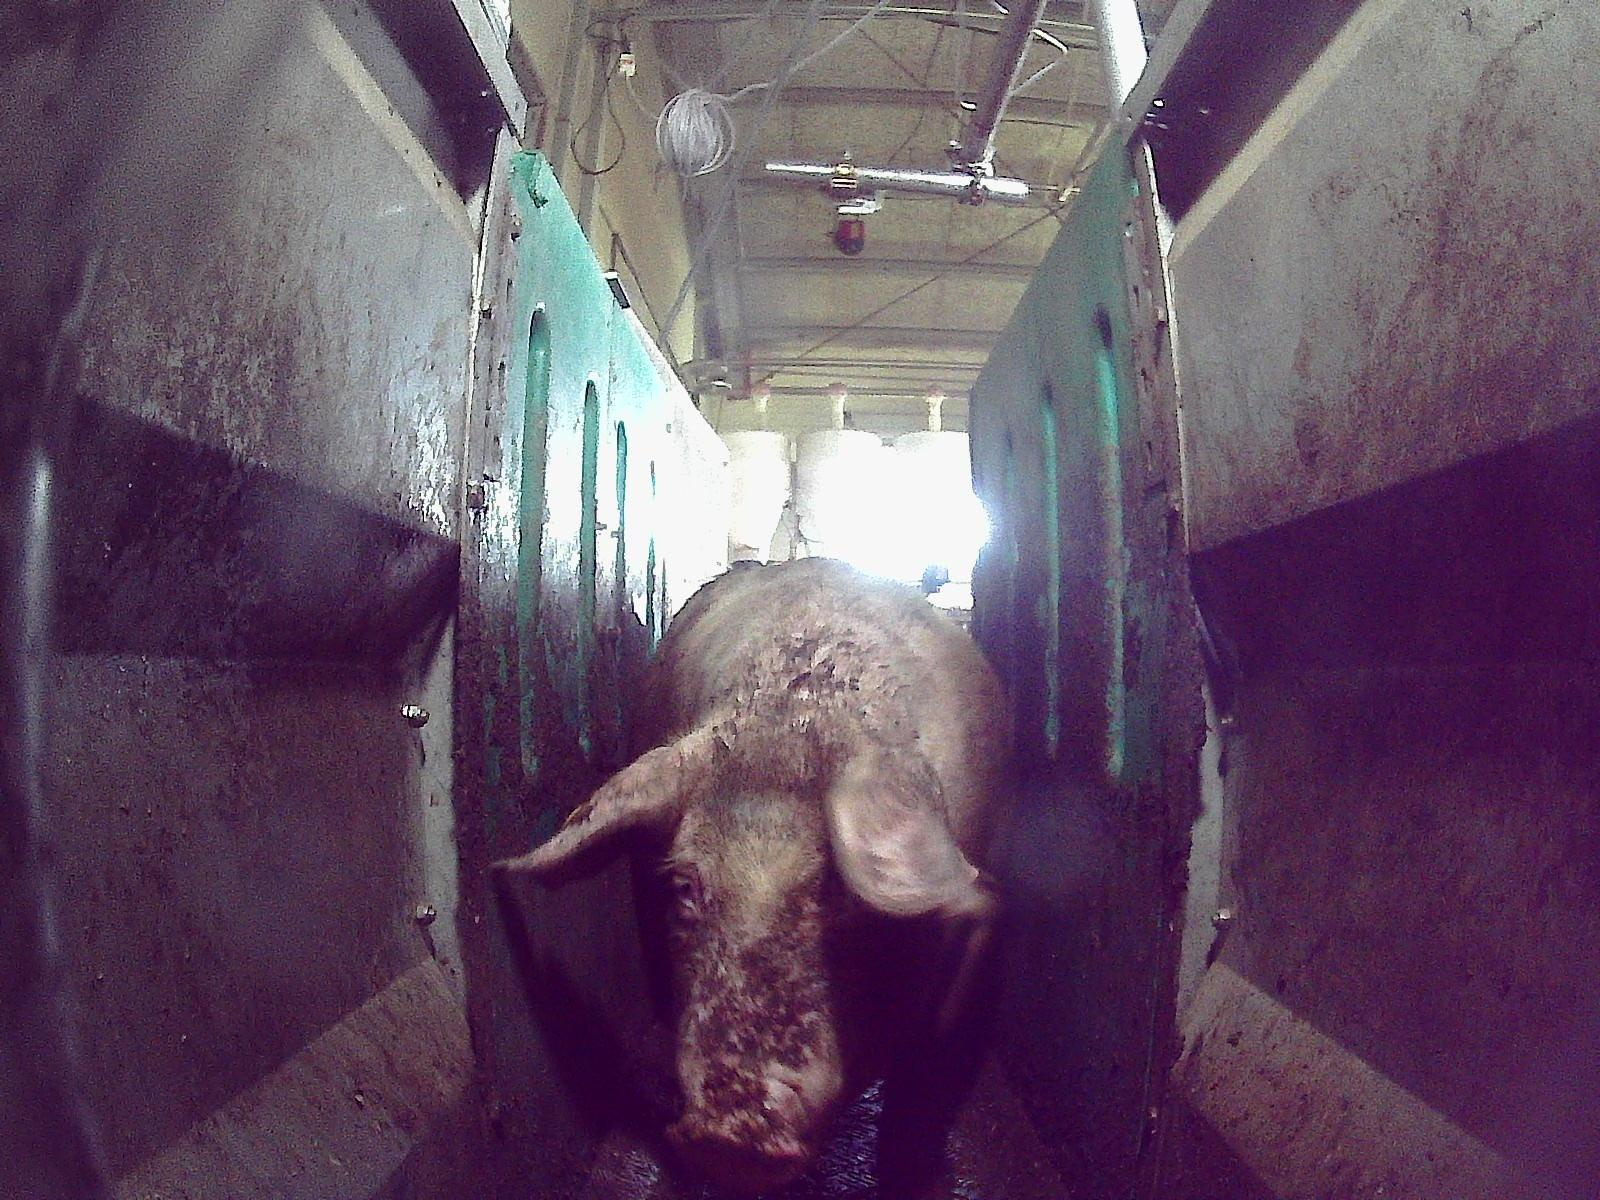Face: (649, 718, 934, 1192)
